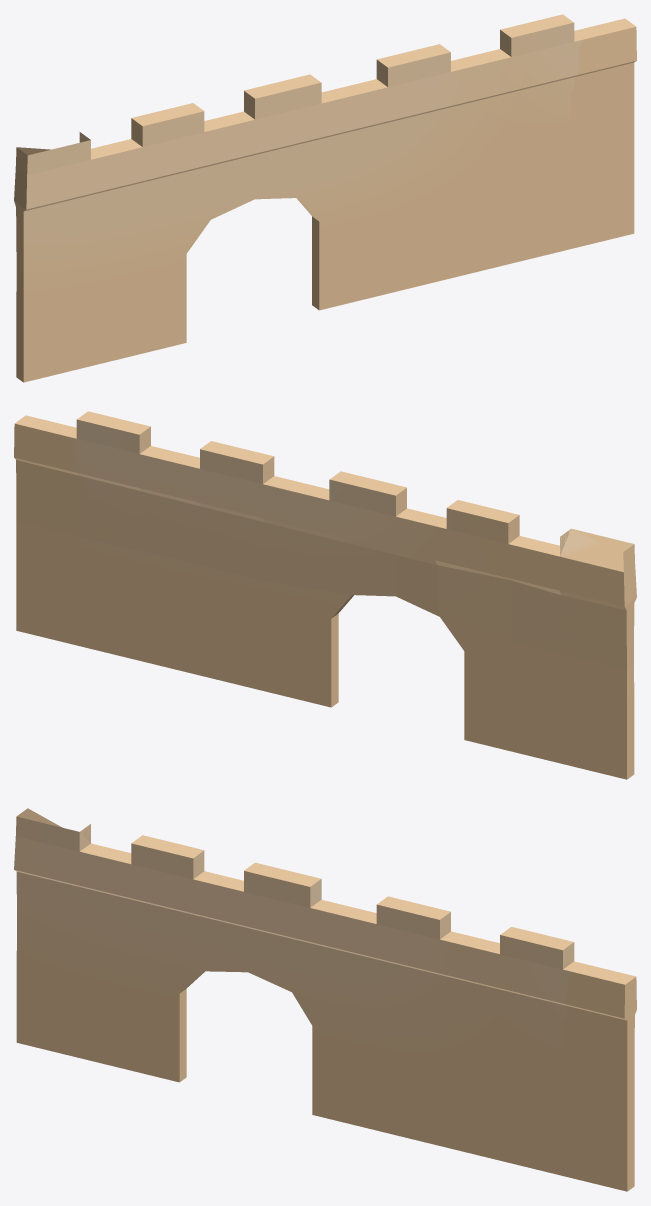
Rendered from Wall.fbx.
3 renders of one model, top to bottom at view 1: azimuth 30°, elevation 25°; view 2: azimuth 150°, elevation 25°; view 3: azimuth 330°, elevation 25°, orthographic.
Visible parts, largest first — view 1: wall; view 2: wall; view 3: wall.
Part boxes in pixels (x1,y1,x2,y2): wall: [14, 14, 636, 382]; wall: [14, 411, 636, 779]; wall: [14, 808, 636, 1191].
Size of the model in its own units: 3308 by 1188 by 116.
